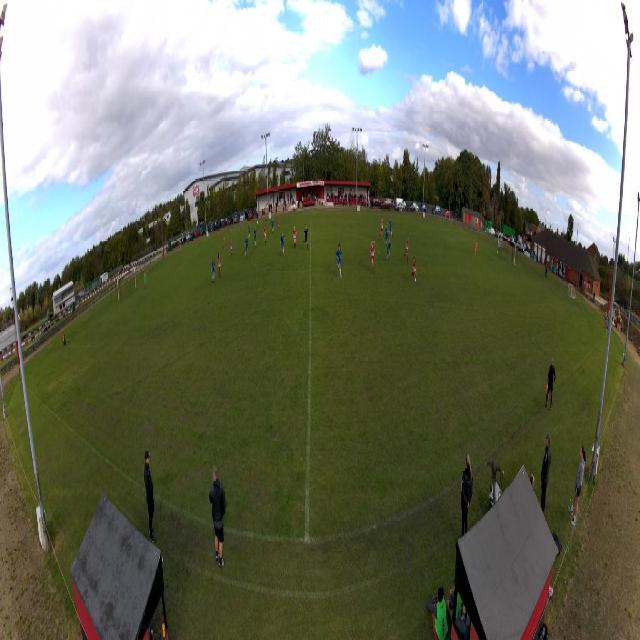ball: (414, 278, 416, 284)
player: (336, 242, 343, 279), (403, 235, 409, 264), (370, 240, 375, 274), (412, 256, 418, 283), (303, 224, 309, 250), (378, 217, 384, 241), (211, 257, 216, 284), (387, 240, 393, 261), (292, 224, 297, 249), (280, 232, 285, 256), (388, 218, 393, 239), (217, 253, 221, 279), (245, 235, 249, 259), (385, 223, 389, 247), (253, 226, 257, 247), (263, 225, 267, 246), (143, 270, 147, 290), (276, 215, 280, 232), (230, 237, 233, 258), (475, 239, 478, 258), (271, 216, 274, 234), (223, 232, 226, 249), (248, 222, 250, 239)
